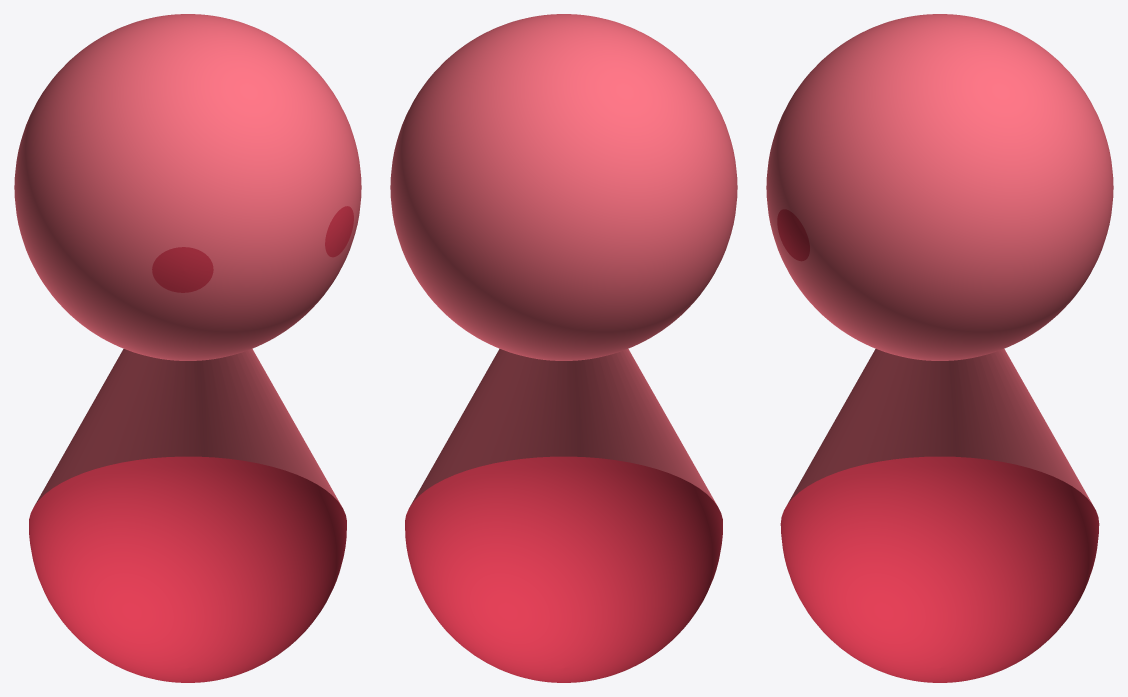
File: cone-circle-red.glb
3 views of the same model, side by side, from view 1: azimuth 30°, elevation 25°; view 2: azimuth 150°, elevation 25°; view 3: azimuth 270°, elevation 25° (orthographic).
Parts seen in each view (by area): view 1: head-shell, bowl, cone, eye (×2); view 2: head-shell, bowl, cone; view 3: head-shell, bowl, cone, eye.
Part boxes in pixels (x1,y1,x2,y2): head-shell: (14, 14, 361, 360); bowl: (29, 456, 346, 682); cone: (34, 348, 342, 507); eye (×2): (152, 206, 353, 292); head-shell: (390, 14, 737, 360); bowl: (405, 456, 722, 682); cone: (409, 348, 717, 507); head-shell: (766, 14, 1113, 360); bowl: (780, 456, 1099, 682); cone: (788, 349, 1091, 503); eye: (777, 209, 809, 261).
Size of the model in its own units: 1.09 by 2.21 by 1.09.
